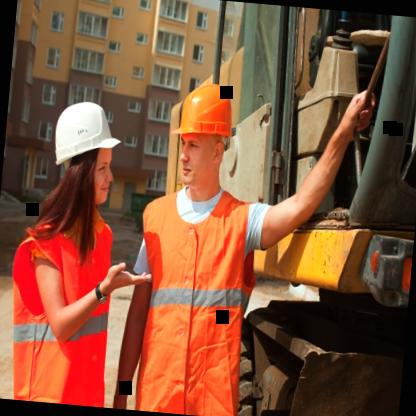helmet: (36, 84, 127, 226), (164, 63, 249, 202)
